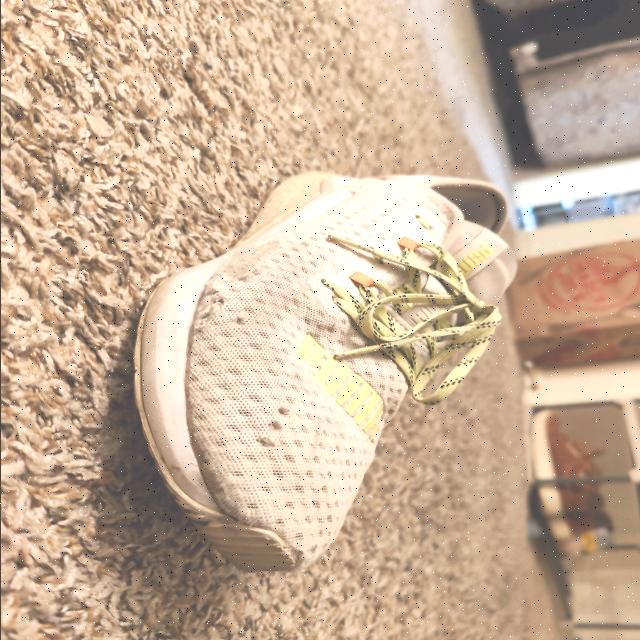white shoes: (133, 177, 505, 567)
